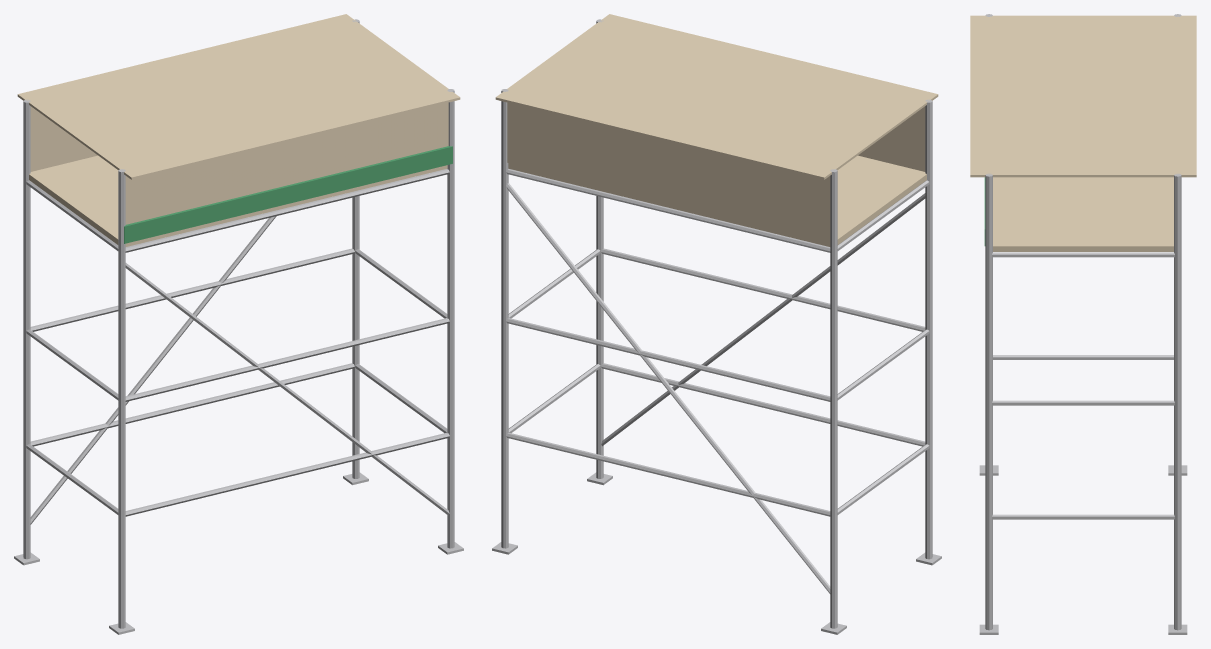
The model's file is scaffold_sidewalk_3m.glb.
3 views of the same model, side by side, from view 1: azimuth 30°, elevation 25°; view 2: azimuth 150°, elevation 25°; view 3: azimuth 270°, elevation 25° (orthographic).
Parts seen in each view (by area): view 1: scaffold_sidewalk_3m; view 2: scaffold_sidewalk_3m; view 3: scaffold_sidewalk_3m.
Part boxes in pixels (bbox=[...]): scaffold_sidewalk_3m: bbox=[14, 14, 463, 634]; scaffold_sidewalk_3m: bbox=[492, 14, 941, 634]; scaffold_sidewalk_3m: bbox=[970, 14, 1196, 634].
Size of the model in its own units: 3.15 by 4 by 1.8.
